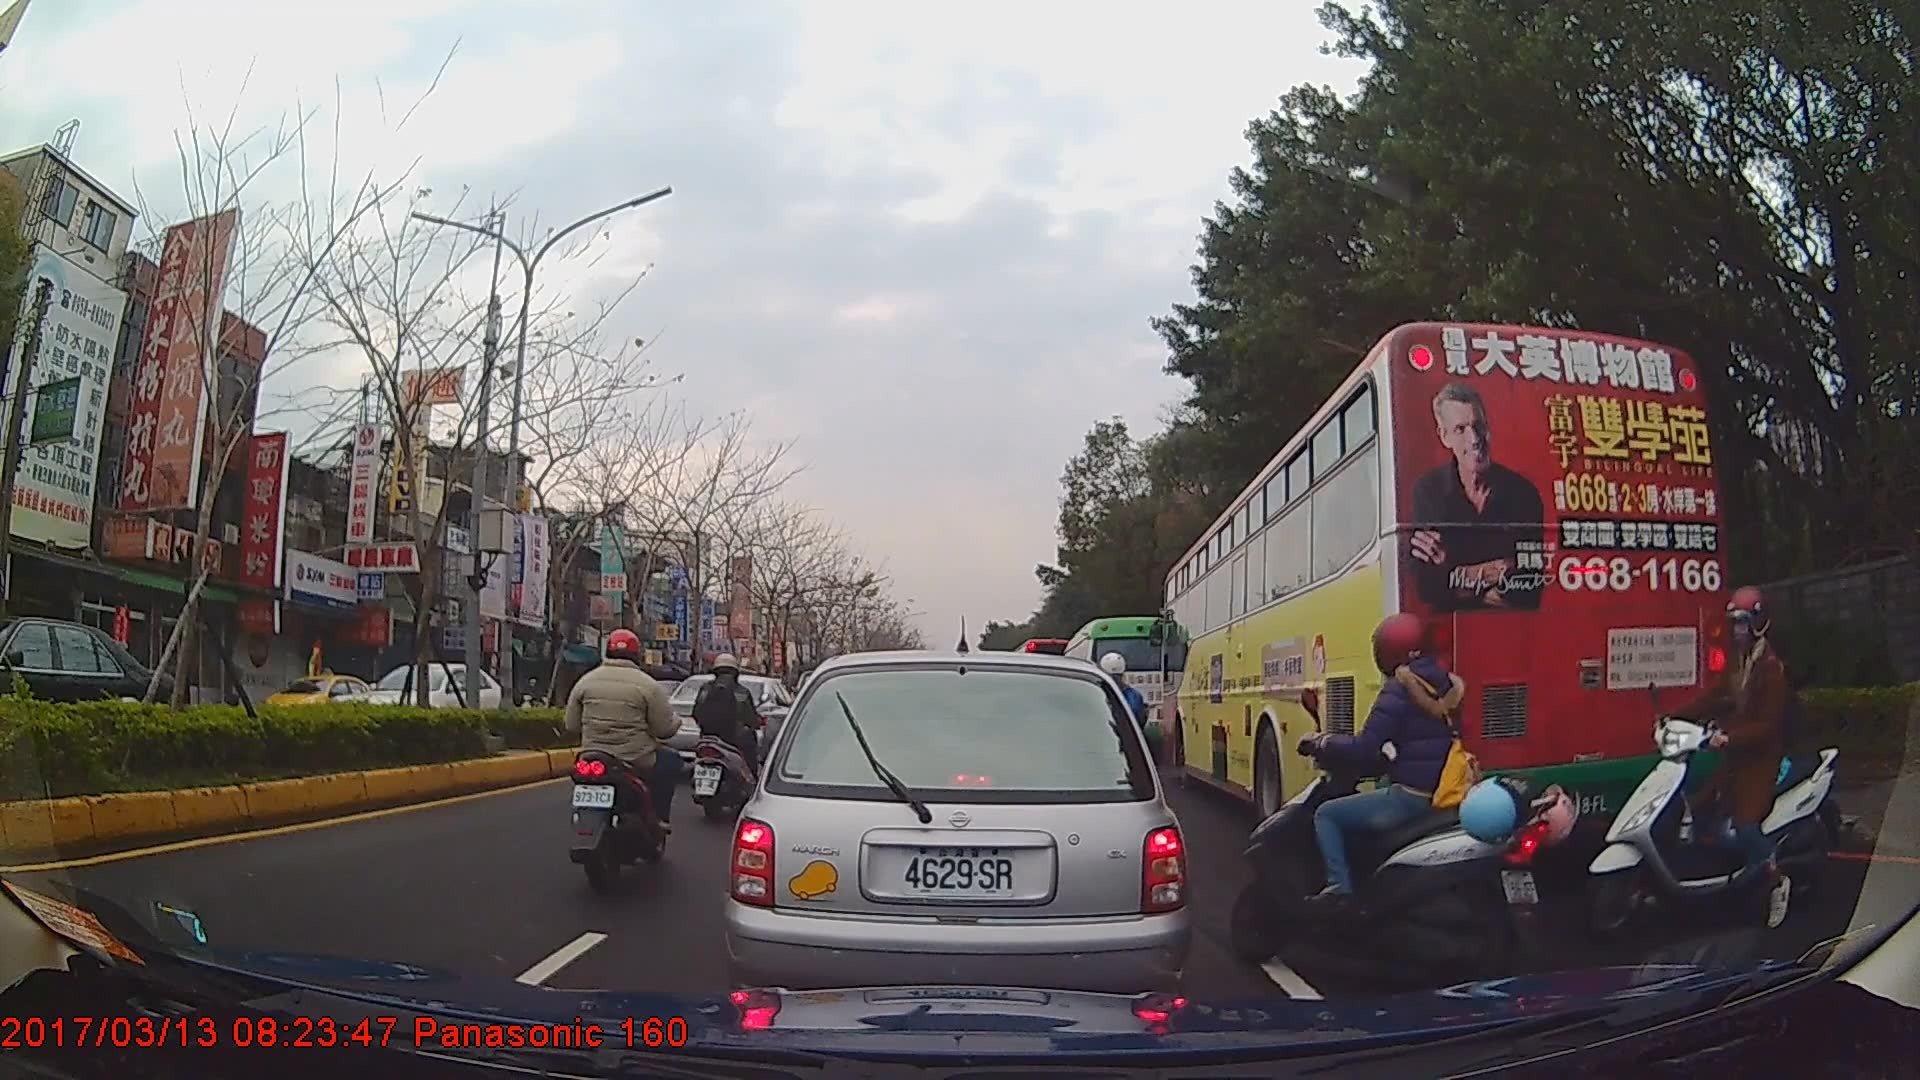rider: (1241, 609, 1577, 991), (1586, 586, 1842, 943), (566, 625, 681, 898), (689, 651, 762, 805)
vehicle: (1160, 319, 1727, 848), (727, 649, 1185, 1014), (1, 615, 168, 762), (1057, 615, 1183, 766), (337, 656, 510, 738), (256, 666, 388, 729)
